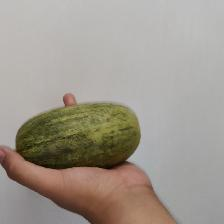gua: (9, 113, 125, 162)
